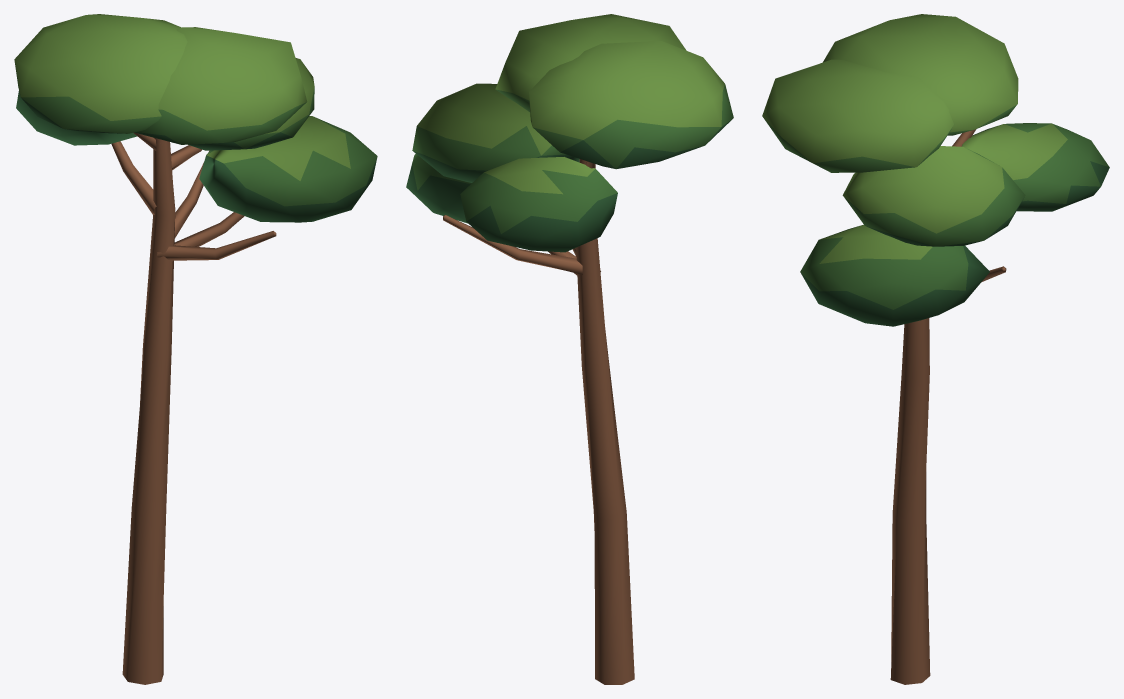
File: PineB_FAR.glb
The picture shows the model from 3 angles, left to right: view 1: azimuth 30°, elevation 25°; view 2: azimuth 150°, elevation 25°; view 3: azimuth 270°, elevation 25°; orthographic projection. The views are drawn at different scales.
Visible parts, largest first — view 1: PineB_FAR.needleLight, PineB_FAR.bark, PineB_FAR.needleMid, PineB_FAR.needleDark; view 2: PineB_FAR.needleLight, PineB_FAR.bark, PineB_FAR.needleMid, PineB_FAR.needleDark; view 3: PineB_FAR.needleLight, PineB_FAR.needleMid, PineB_FAR.bark, PineB_FAR.needleDark.
Part boxes in pixels (x1,y1,x2,y2): PineB_FAR.needleLight: (14,14,350,180); PineB_FAR.bark: (111,132,276,684); PineB_FAR.needleMid: (15,64,377,206); PineB_FAR.needleDark: (16,91,377,222); PineB_FAR.needleLight: (417,14,724,194); PineB_FAR.bark: (443,159,634,684); PineB_FAR.needleMid: (412,84,733,233); PineB_FAR.needleDark: (406,119,732,252); PineB_FAR.needleLight: (762,14,1067,263); PineB_FAR.needleMid: (762,104,1109,309); PineB_FAR.bark: (890,129,1006,684); PineB_FAR.needleDark: (800,161,1109,326).
Bounding box in the file's own units: 18.2 × 33.84 × 16.95.
